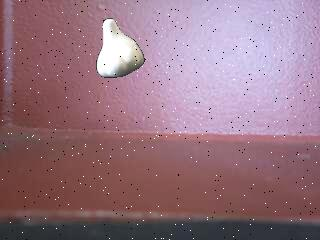Garlic: (94, 15, 145, 80)
